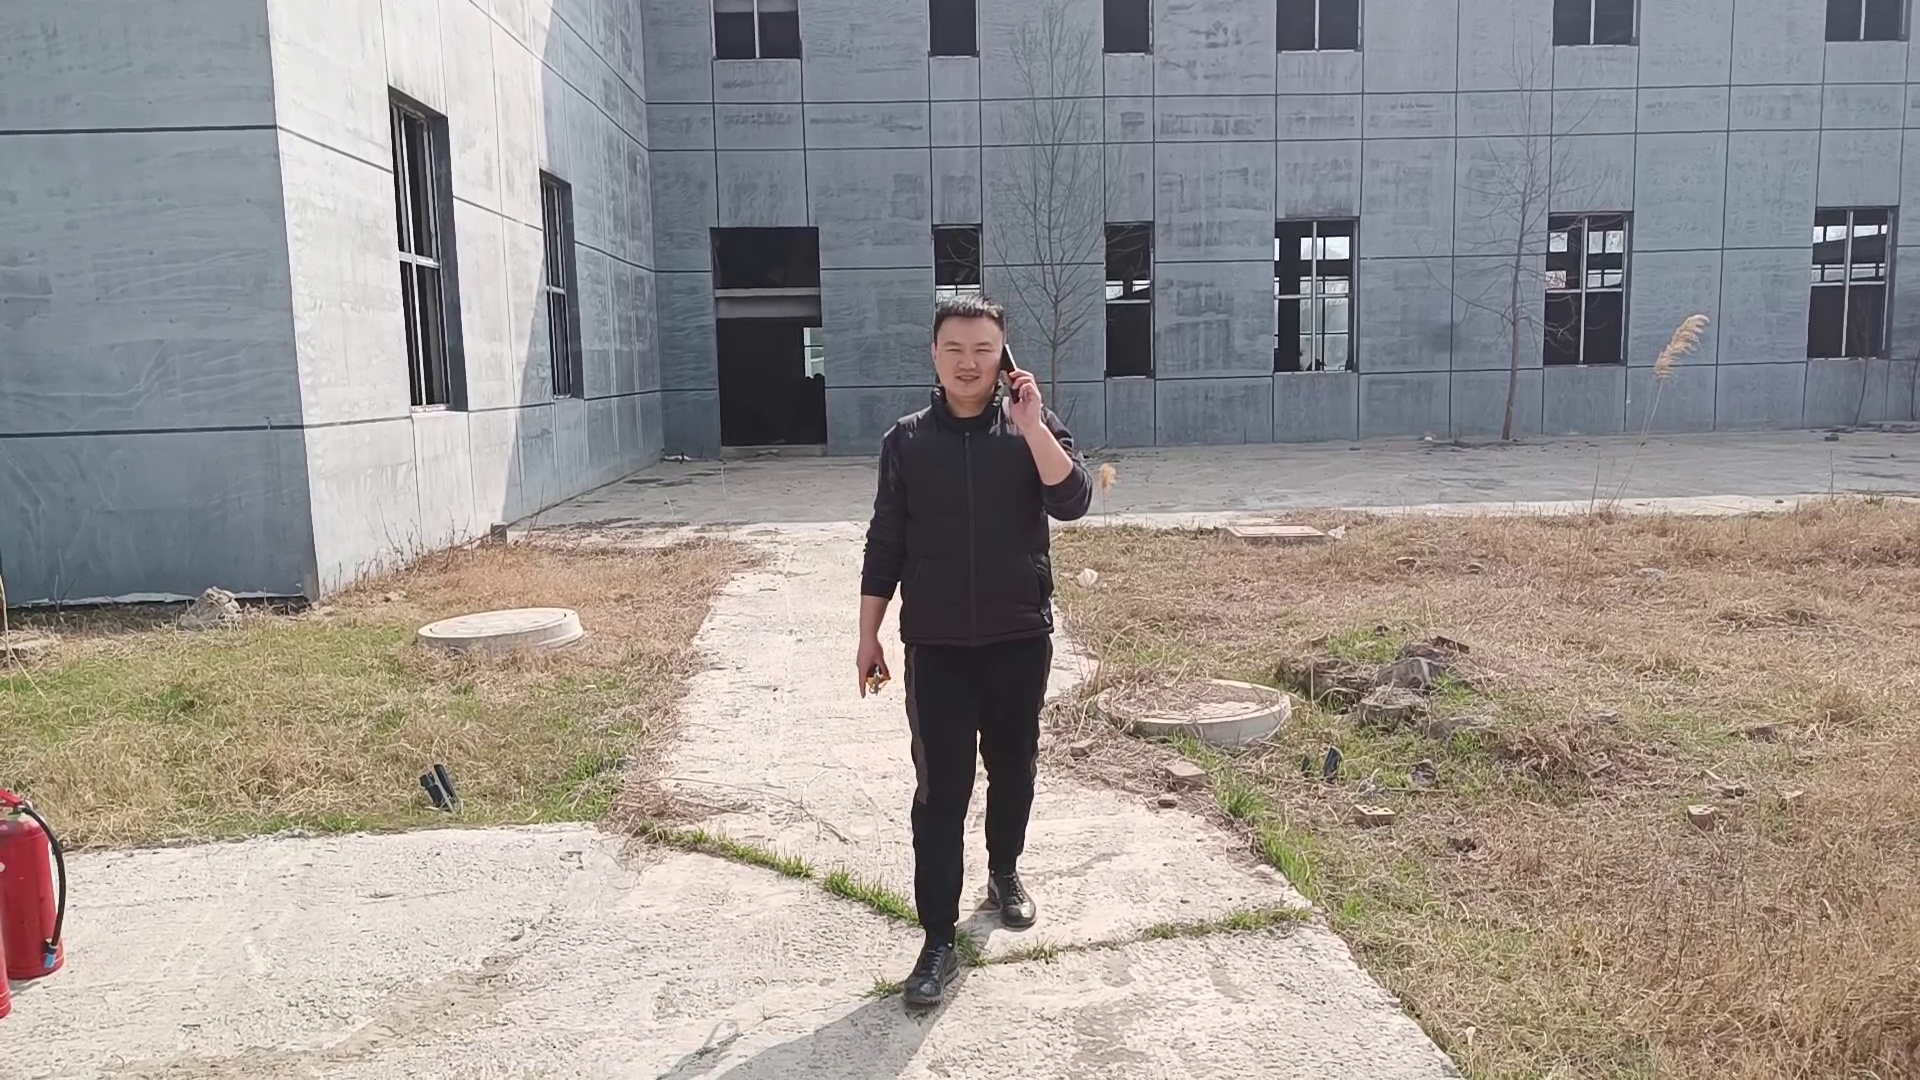phone: (920, 293, 1044, 423)
